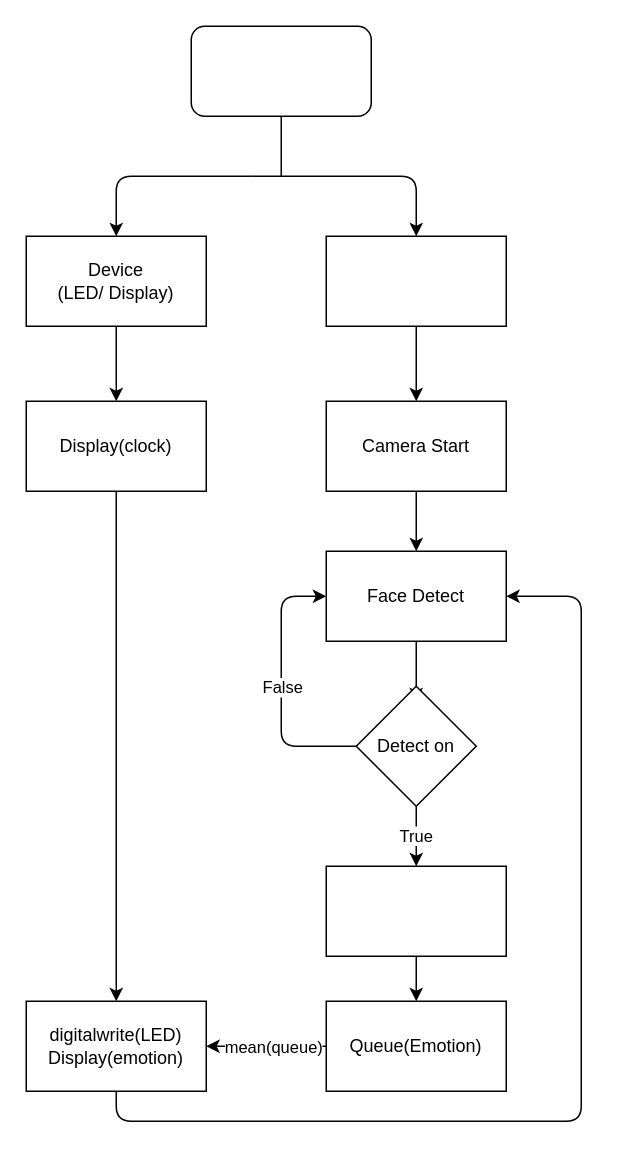
The diagram is 620 pixels wide and 1160 high, and some of its shapes have lost their labels. The centre of each missing label's shape, as x and y in pixels:
Emotion Predict: the point at 415,910
Server pyQt (PC/ CAM): the point at 415,280
Start: the point at 280,70
